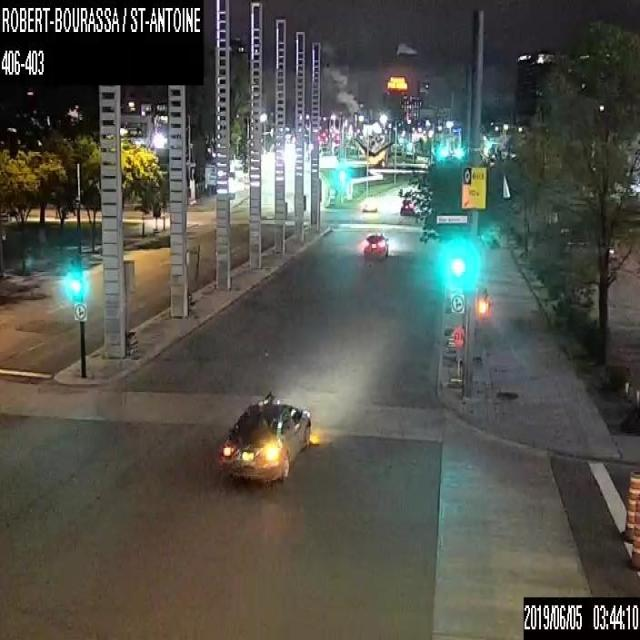construction: (122, 258, 138, 354), (623, 468, 639, 543), (186, 243, 200, 309), (450, 324, 463, 384), (630, 497, 639, 571)
vehicle: (219, 398, 312, 478), (363, 232, 389, 258), (363, 196, 377, 210), (400, 198, 412, 213)
